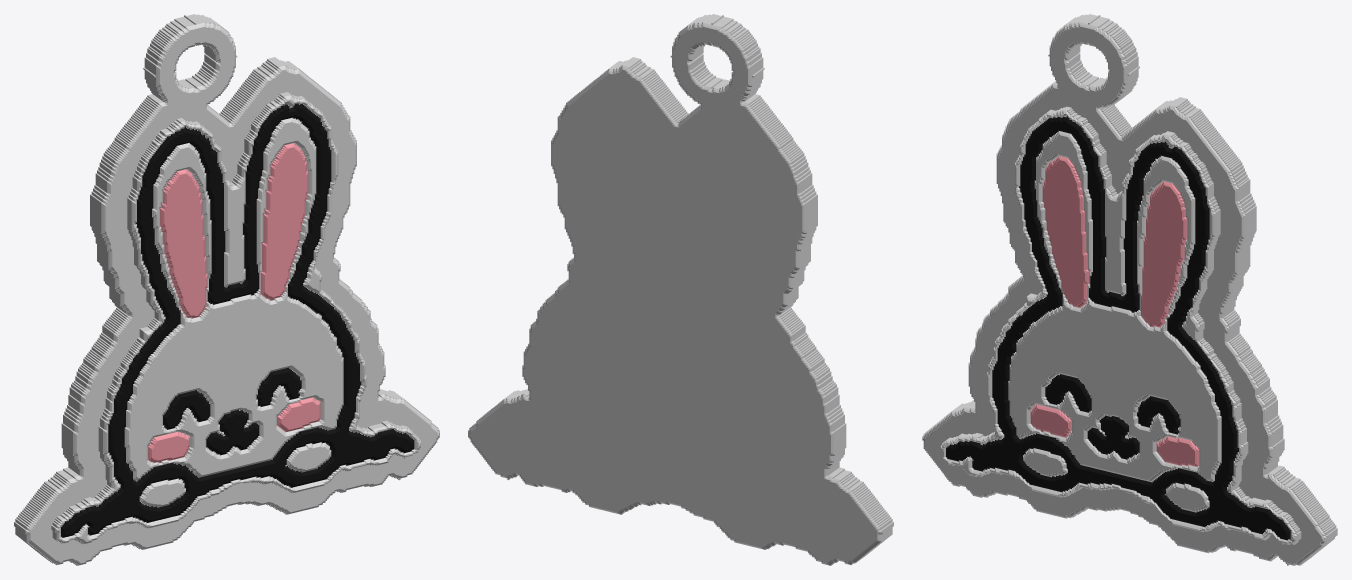
Rendered from bunny_right_multicolour.obj.
3 views of the same model, side by side, from view 1: azimuth 30°, elevation 25°; view 2: azimuth 150°, elevation 25°; view 3: azimuth 330°, elevation 25° (orthographic). The views are drawn at different scales.
Visible parts, largest first — view 1: part_1_base_white, part_3_base_white, part_6_black_details, part_2_base_white, part_11_pink_details, part_10_pink_details, part_9_black_details, part_7_black_details, part_12_pink_details, part_8_black_details, part_13_pink_details, part_4_base_white (+1 smaller); view 2: part_1_base_white; view 3: part_1_base_white, part_3_base_white, part_6_black_details, part_2_base_white, part_11_pink_details, part_10_pink_details, part_9_black_details, part_7_black_details, part_12_pink_details, part_8_black_details, part_13_pink_details, part_4_base_white (+1 smaller).
Boxes of the visible parts, x1,y1,x2,y2 form: part_1_base_white: [14, 14, 439, 565]; part_3_base_white: [124, 117, 343, 481]; part_6_black_details: [61, 103, 414, 537]; part_2_base_white: [51, 92, 420, 544]; part_11_pink_details: [260, 143, 308, 300]; part_10_pink_details: [160, 169, 207, 318]; part_9_black_details: [206, 409, 259, 455]; part_7_black_details: [163, 390, 210, 429]; part_12_pink_details: [277, 397, 320, 432]; part_8_black_details: [256, 367, 301, 406]; part_13_pink_details: [148, 431, 189, 463]; part_4_base_white: [285, 442, 331, 472]; part_1_base_white: [468, 14, 893, 565]; part_1_base_white: [922, 14, 1337, 565]; part_3_base_white: [1008, 131, 1221, 482]; part_6_black_details: [946, 116, 1290, 540]; part_2_base_white: [940, 106, 1301, 544]; part_11_pink_details: [1141, 181, 1187, 327]; part_10_pink_details: [1042, 156, 1088, 307]; part_9_black_details: [1087, 415, 1139, 459]; part_7_black_details: [1045, 374, 1091, 412]; part_12_pink_details: [1156, 436, 1199, 466]; part_8_black_details: [1137, 396, 1180, 434]; part_13_pink_details: [1030, 404, 1071, 437]; part_4_base_white: [1164, 482, 1209, 512].
Size of the model in its own units: 50.83 by 60.17 by 4.2.
